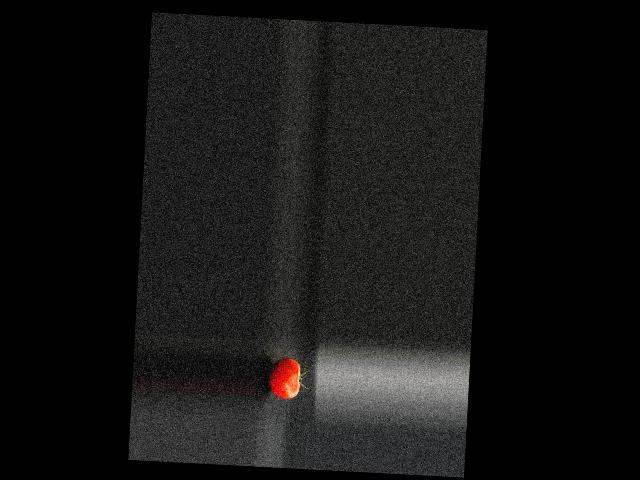tomato: (268, 357, 300, 400)
